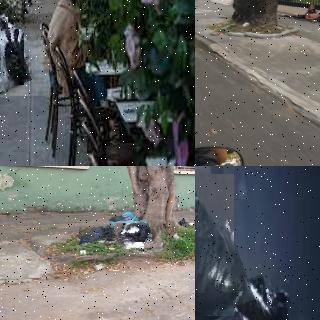Garbage: (195, 169, 244, 320), (235, 271, 296, 320), (0, 28, 28, 86), (0, 15, 13, 93), (114, 221, 151, 244), (79, 225, 116, 244)
